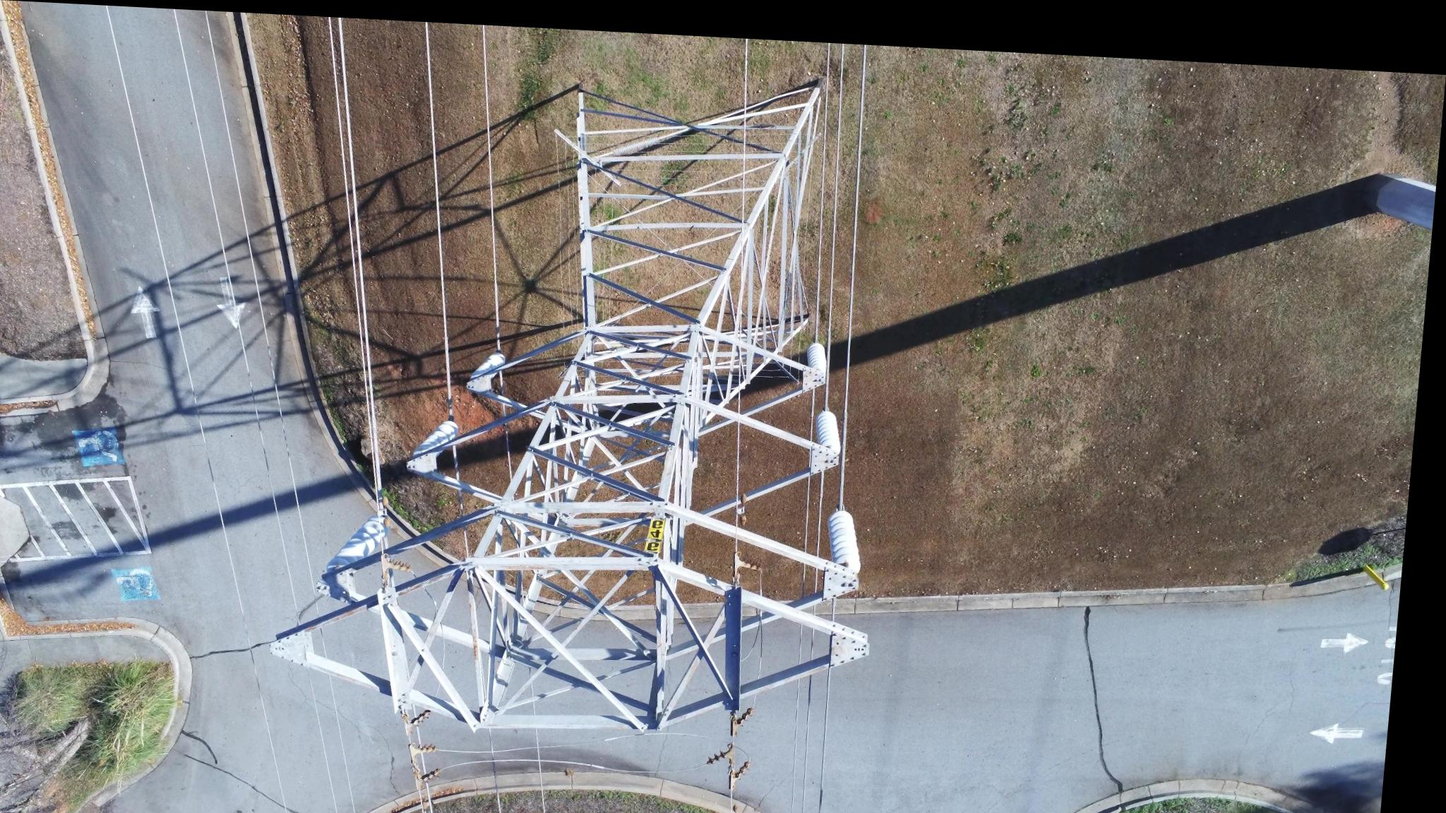tower: (266, 49, 919, 752)
